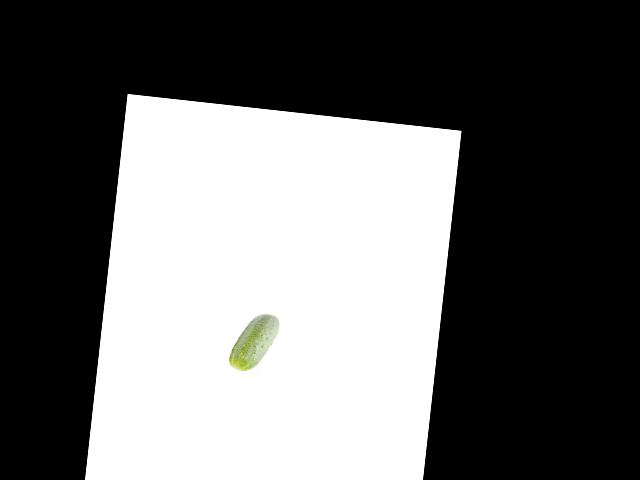cucumber: (228, 310, 280, 374)
